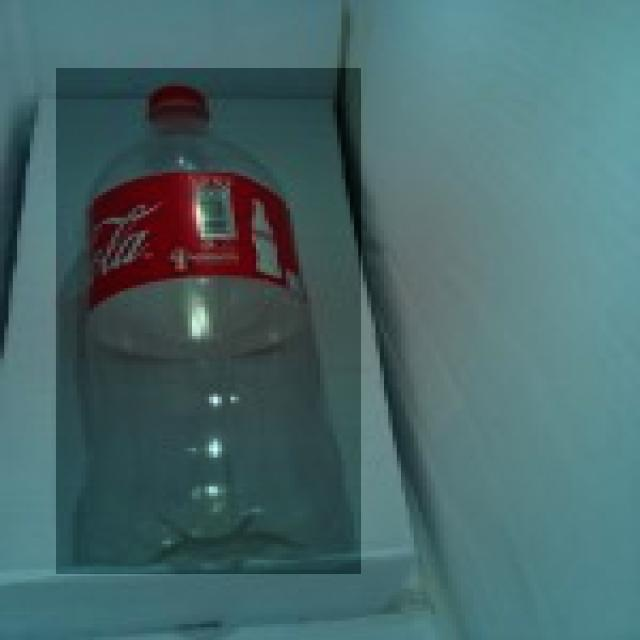good: (56, 68, 361, 574)
